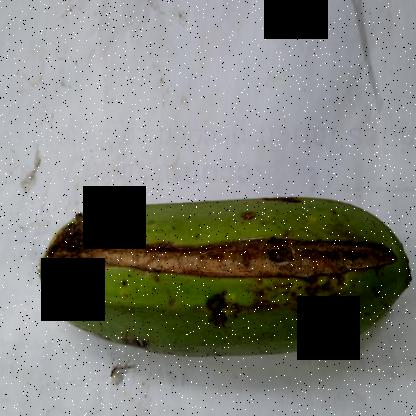rotten: (36, 180, 415, 392)
